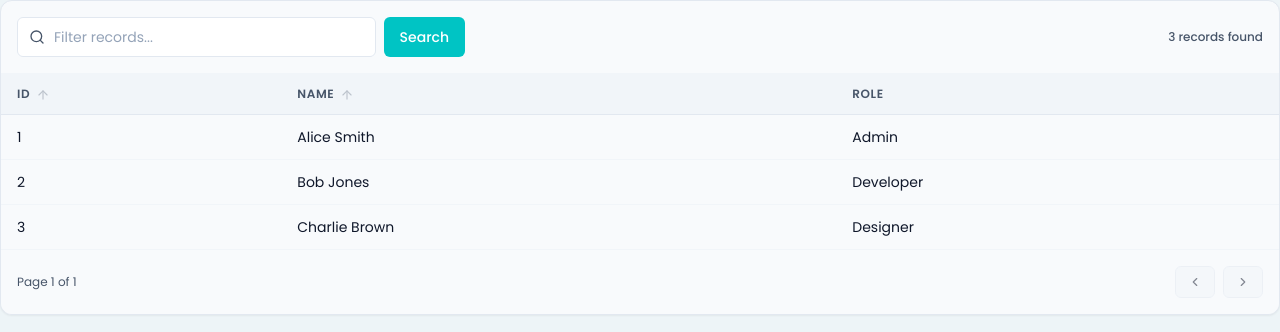
DataTable Component › filters data when search input is used
The image size is (1280, 332).
Type "Alice" into the search field with placeholder "Filter records..." at coordinates (196, 37), box 17,17 -> 376,57
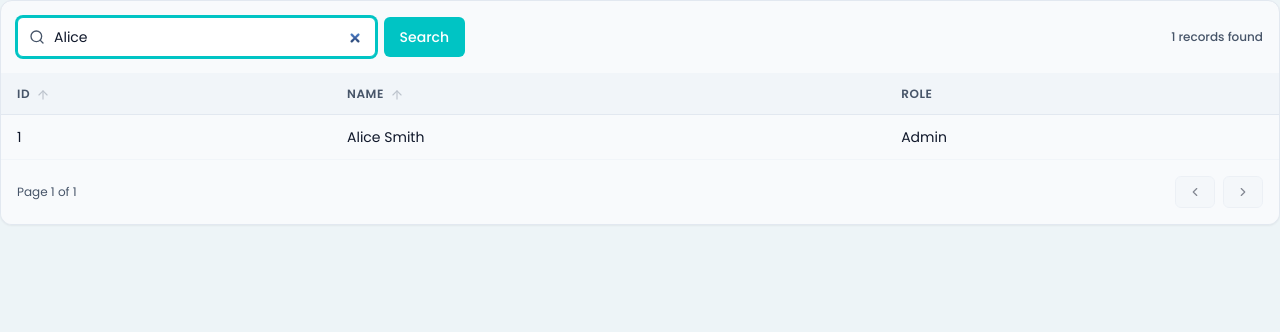
Expected: the text "Alice Smith" is shown, 331,114 -> 885,159
Now the text "Bob Jones" is gone
